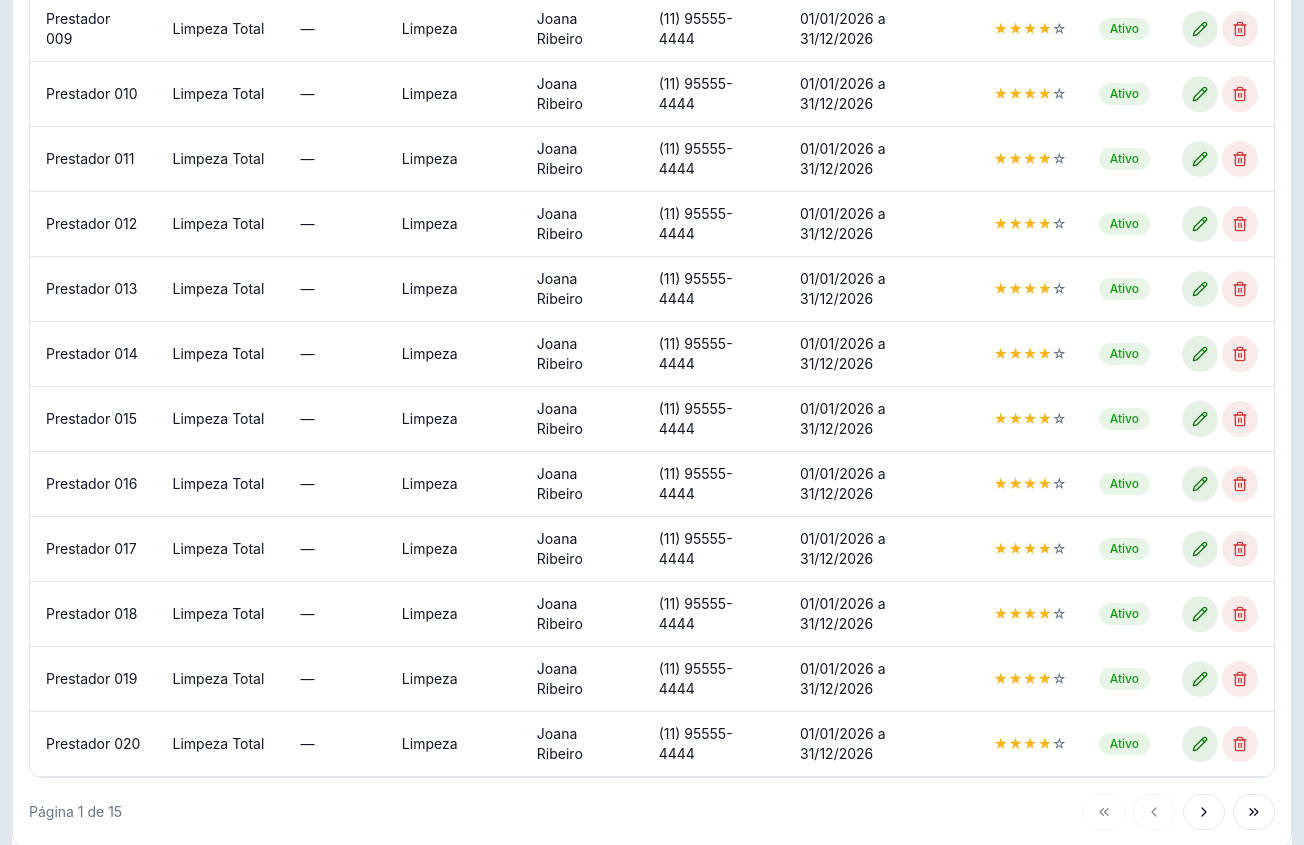
Test: Listagem de prestadores › trezentos prestadores paginam no tamanho pedido
(page scrolled)
Click the button named "Próxima página" at (1204, 812), box [1183,794,1225,830]
(page scrolled)
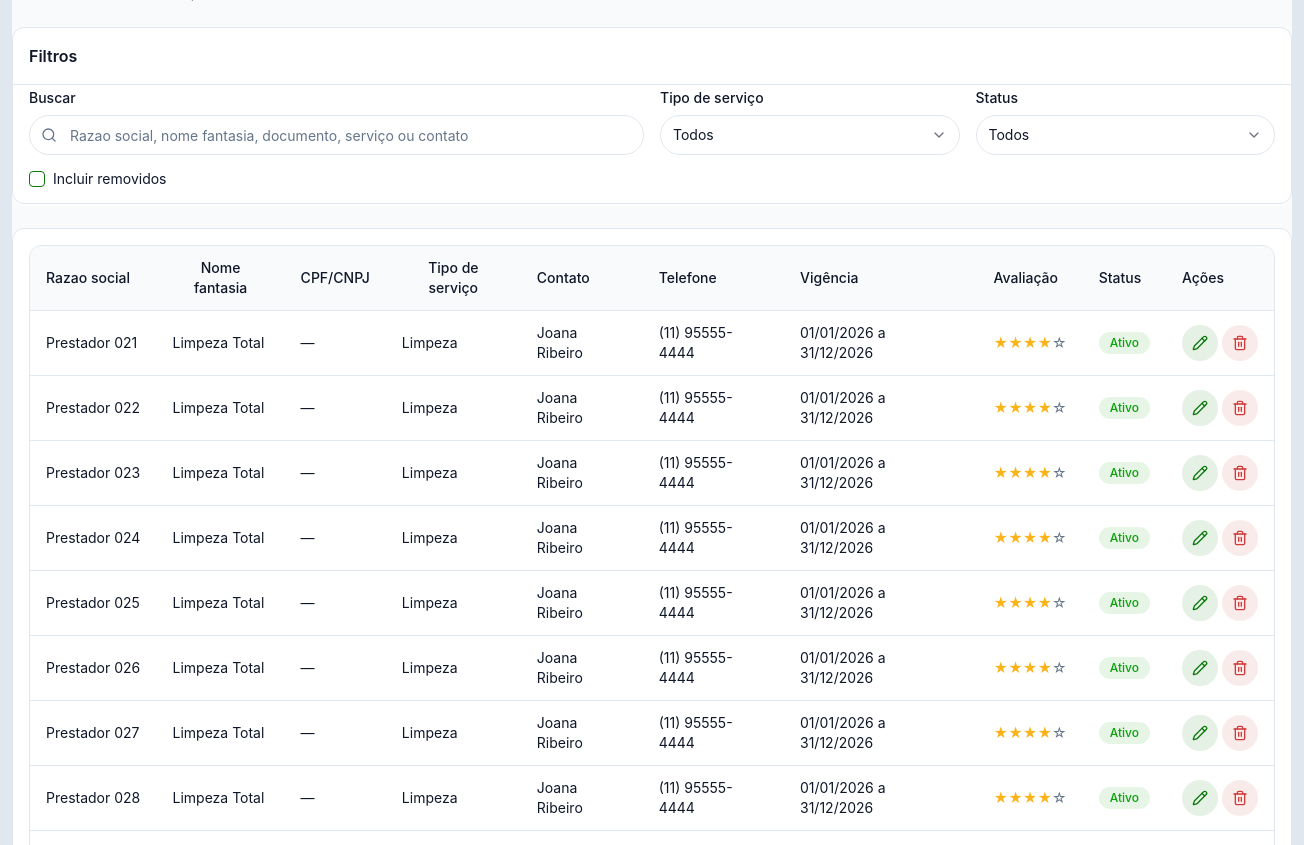
expect the text "Prestador 021" is shown: met, box [46,333,137,353]
